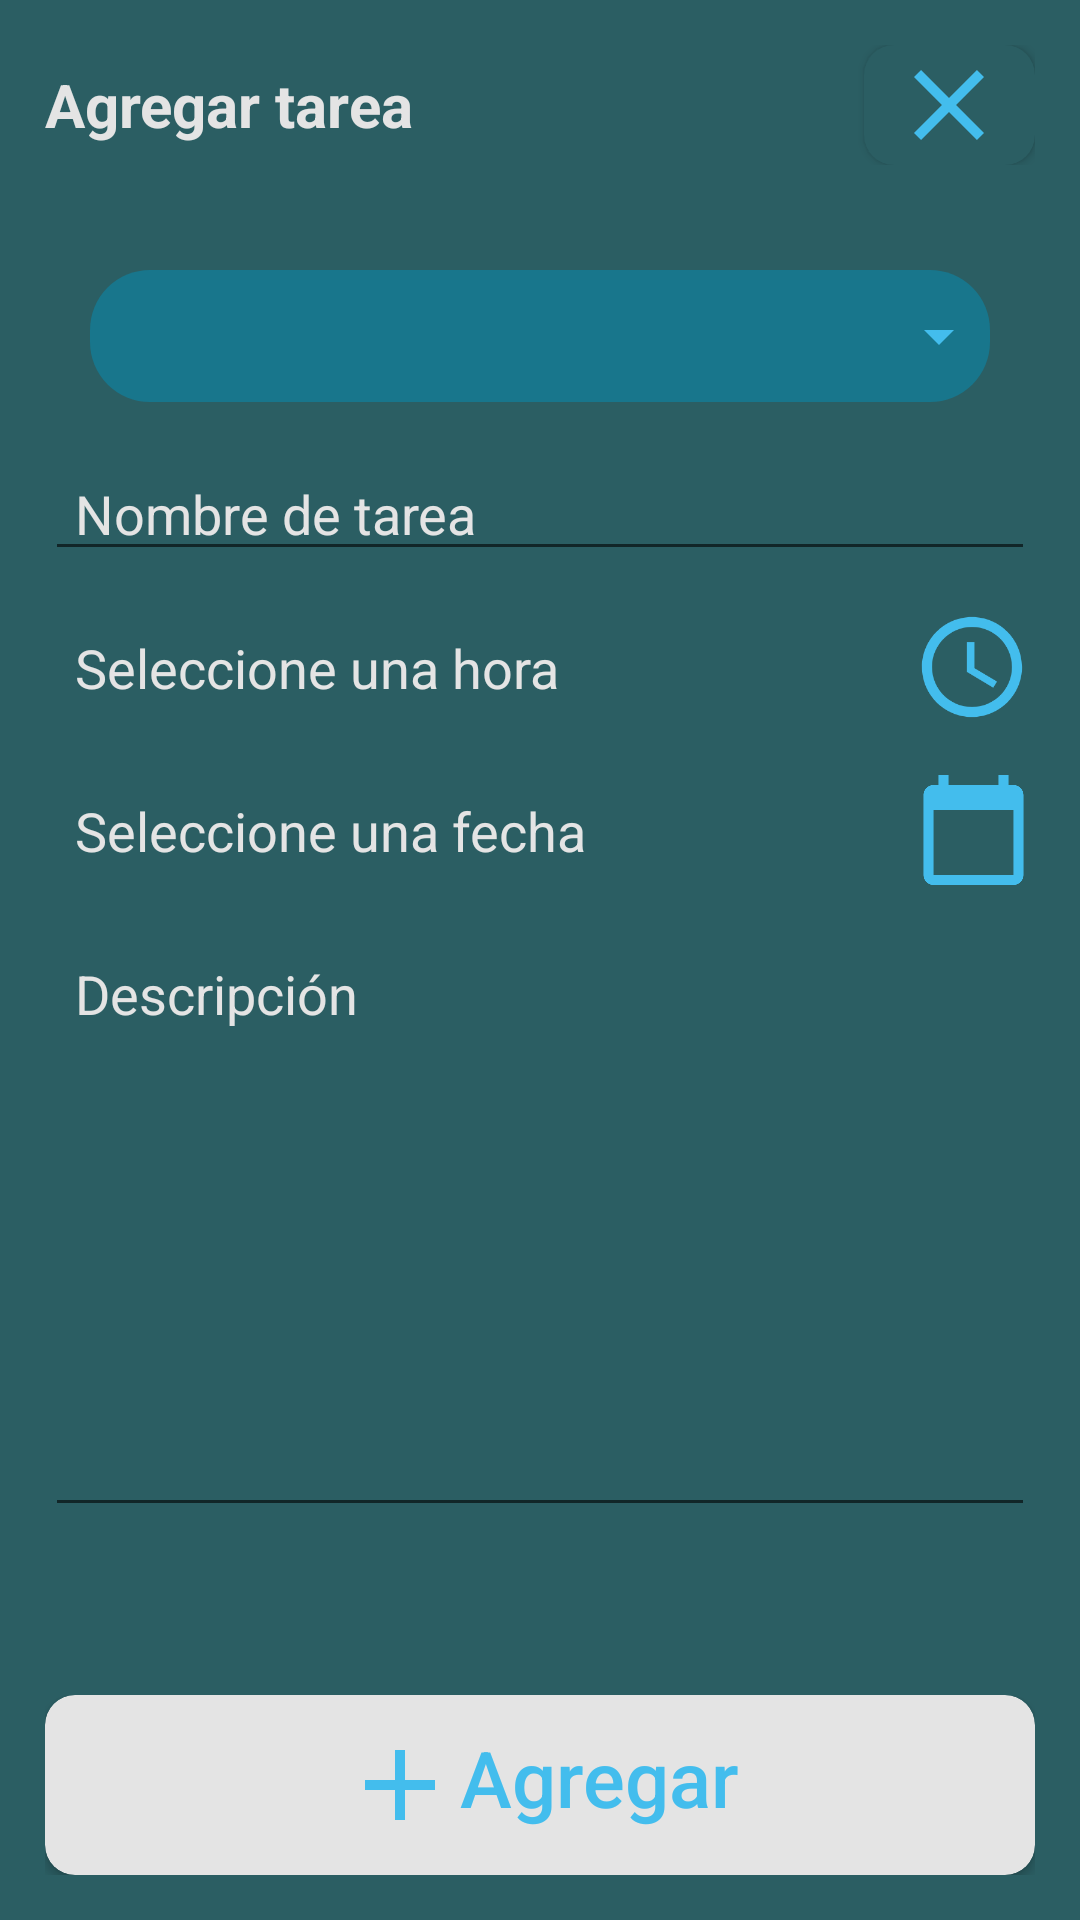

Where to tap for icons on this 1080×1920 app screen, as [x,y]:
add: [400,1785]
calendar: [973,830]
close: [949,105]
time: [972,667]
